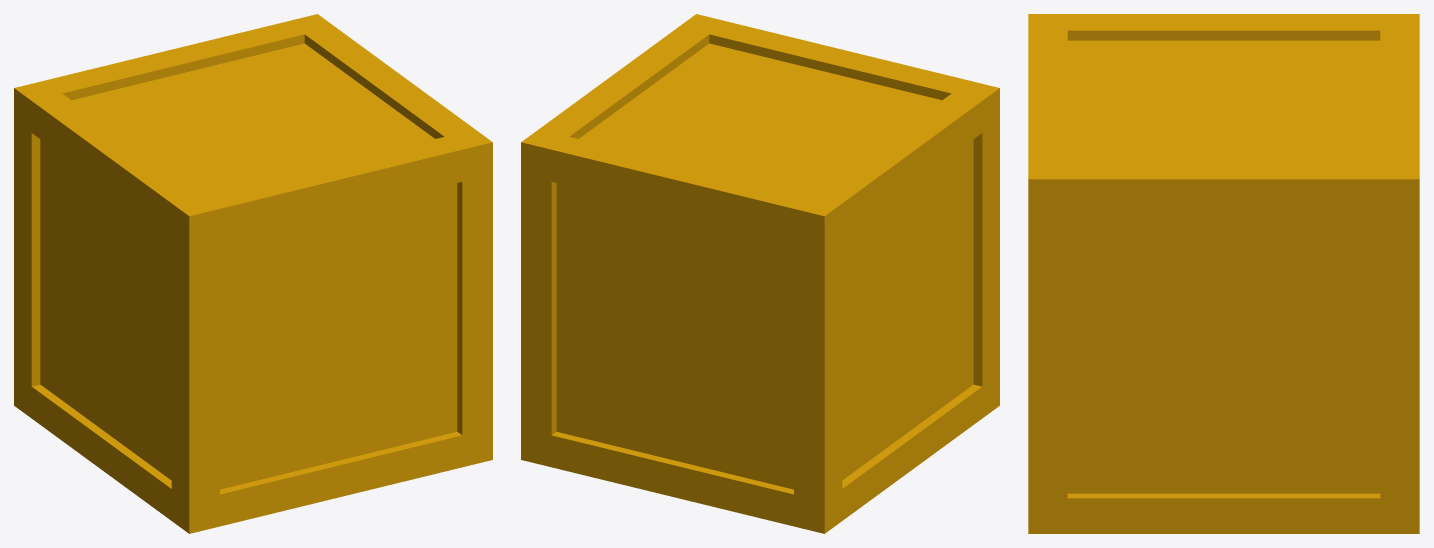
The model's file is box_wood_small.FBX.
3 renders of one model, left to right at view 1: azimuth 30°, elevation 25°; view 2: azimuth 150°, elevation 25°; view 3: azimuth 270°, elevation 25°, orthographic. The views are drawn at different scales.
Visible parts, largest first — view 1: box_wood_small; view 2: box_wood_small; view 3: box_wood_small.
Part boxes in pixels (x1,y1,x2,y2): box_wood_small: [14, 14, 492, 533]; box_wood_small: [521, 14, 999, 533]; box_wood_small: [1028, 14, 1419, 533].
Bounding box in the file's own units: 84 × 84 × 84.
